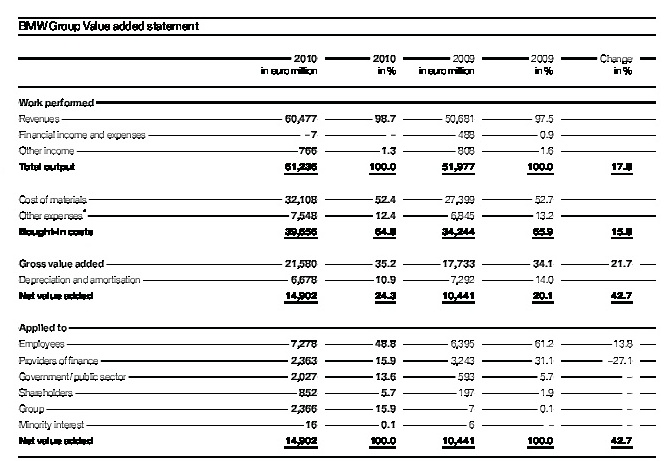table: (0, 0, 670, 461)
